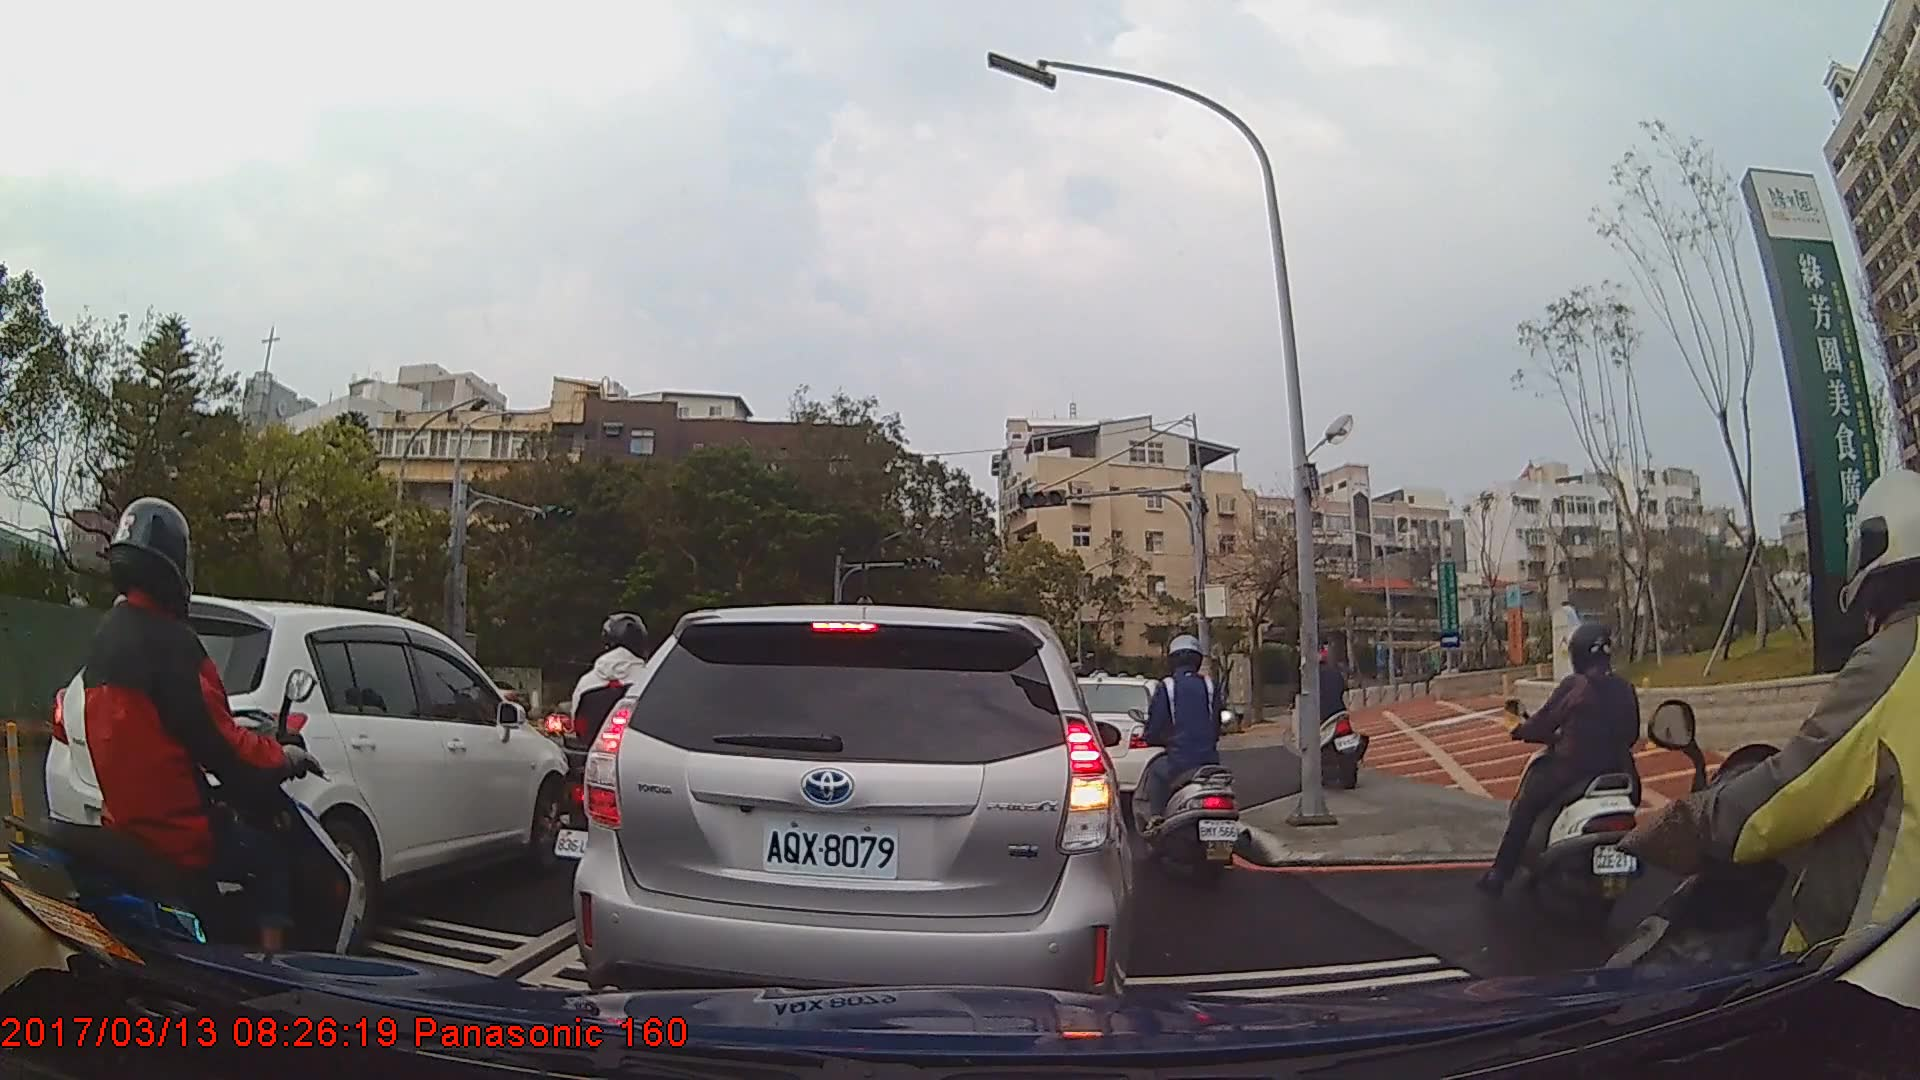rider: (1590, 464, 1920, 1079), (9, 494, 365, 1048), (1478, 623, 1650, 922), (559, 605, 692, 917), (1132, 634, 1248, 891), (1291, 642, 1366, 802)
vehicle: (571, 602, 1134, 1028), (40, 592, 577, 938)
